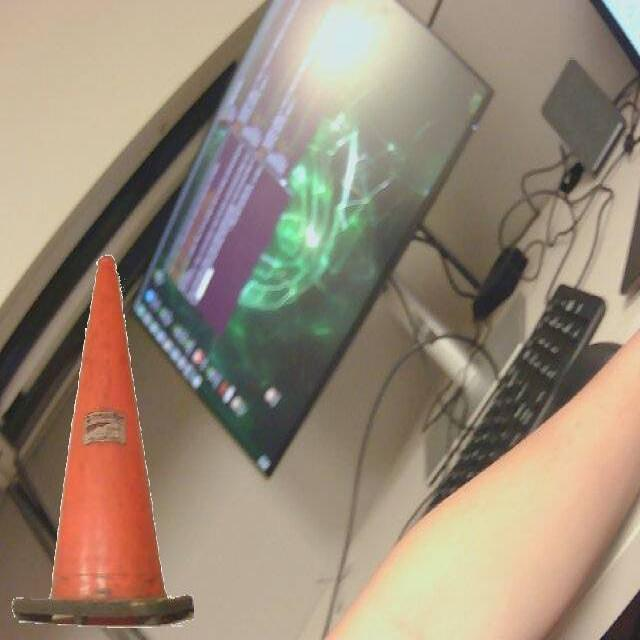traffic cone: (7, 244, 203, 635)
